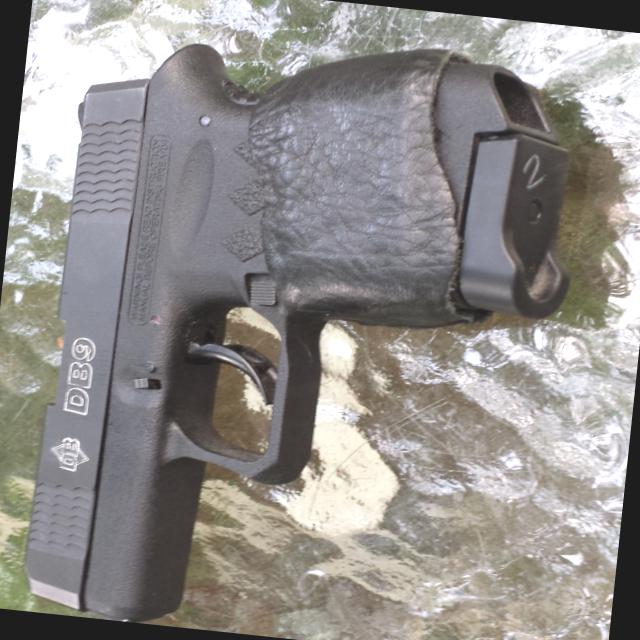handgun: (22, 22, 582, 639)
